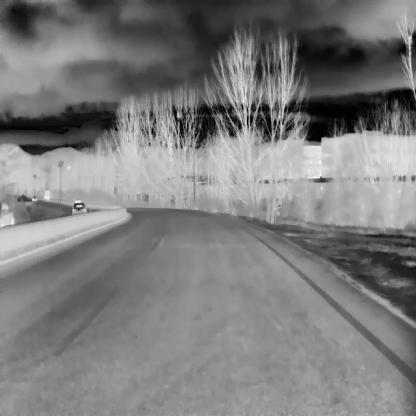car: (0, 202, 14, 227), (72, 202, 87, 214), (32, 194, 37, 201)
